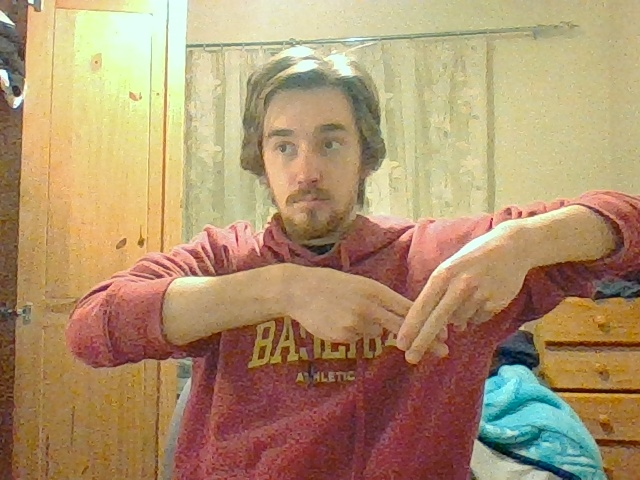father: (367, 250, 476, 365)
